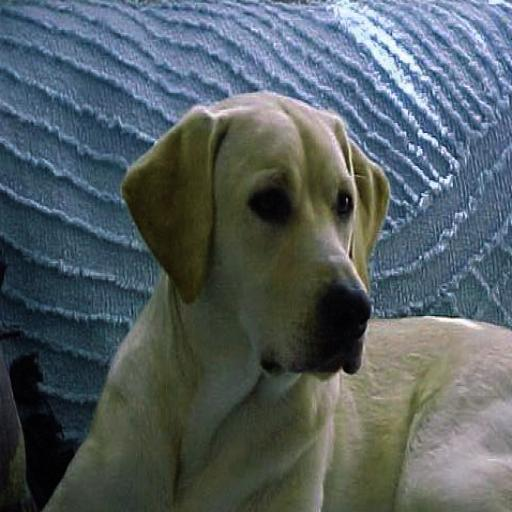dog_face: (128, 95, 395, 383)
